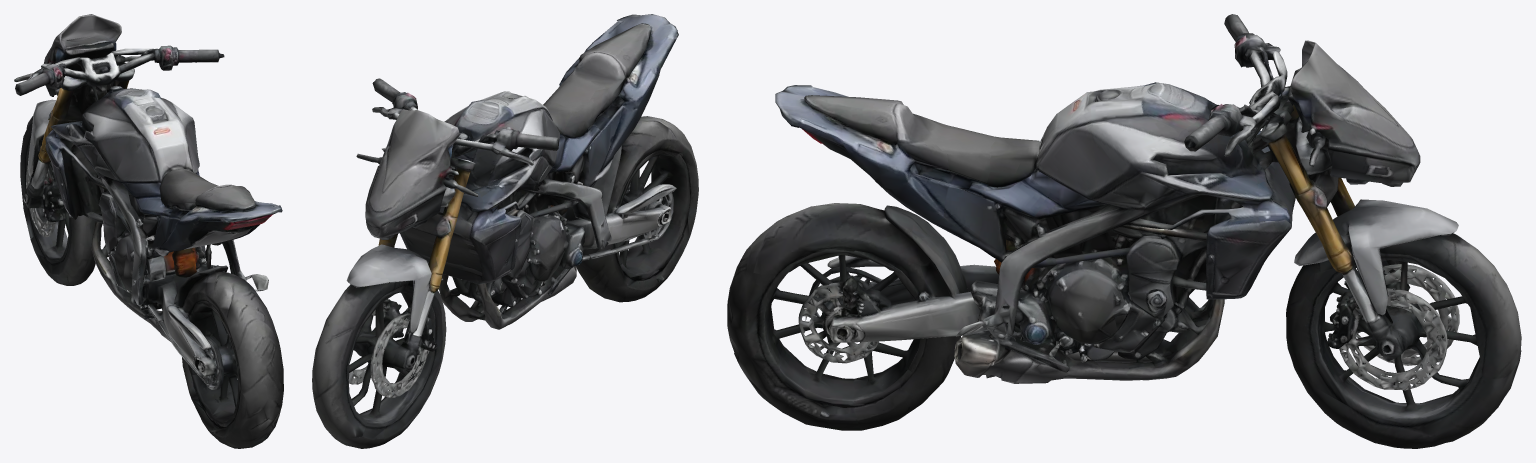
Rendered from onyx.glb.
The picture shows the model from 3 angles, left to right: view 1: azimuth 30°, elevation 25°; view 2: azimuth 150°, elevation 25°; view 3: azimuth 270°, elevation 25°; orthographic projection. The views are drawn at different scales.
Parts seen in each view (by area): view 1: body, wheel_r, wheel_f; view 2: body, wheel_f, wheel_r; view 3: body, wheel_r, wheel_f.
Part boxes in pixels (bbox=[...]): body: bbox=[14, 14, 283, 448]; wheel_r: bbox=[163, 268, 262, 443]; wheel_f: bbox=[20, 118, 101, 285]; body: bbox=[312, 14, 698, 435]; wheel_f: bbox=[316, 280, 446, 448]; wheel_r: bbox=[564, 133, 691, 302]; body: bbox=[727, 14, 1521, 444]; wheel_r: bbox=[756, 215, 992, 430]; wheel_f: bbox=[1286, 245, 1521, 448].
Size of the model in its own units: 0.7927 by 1.16 by 2.1.
Materials: 1 (1 with a texture image).
